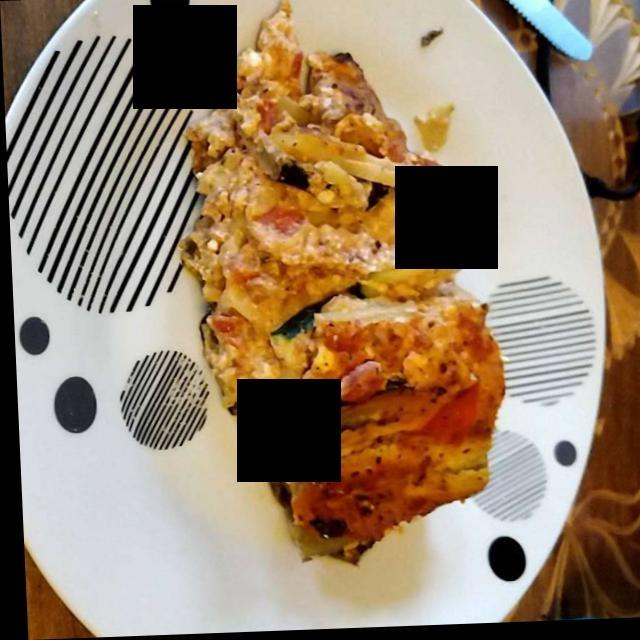eggplant: (179, 38, 485, 555)
